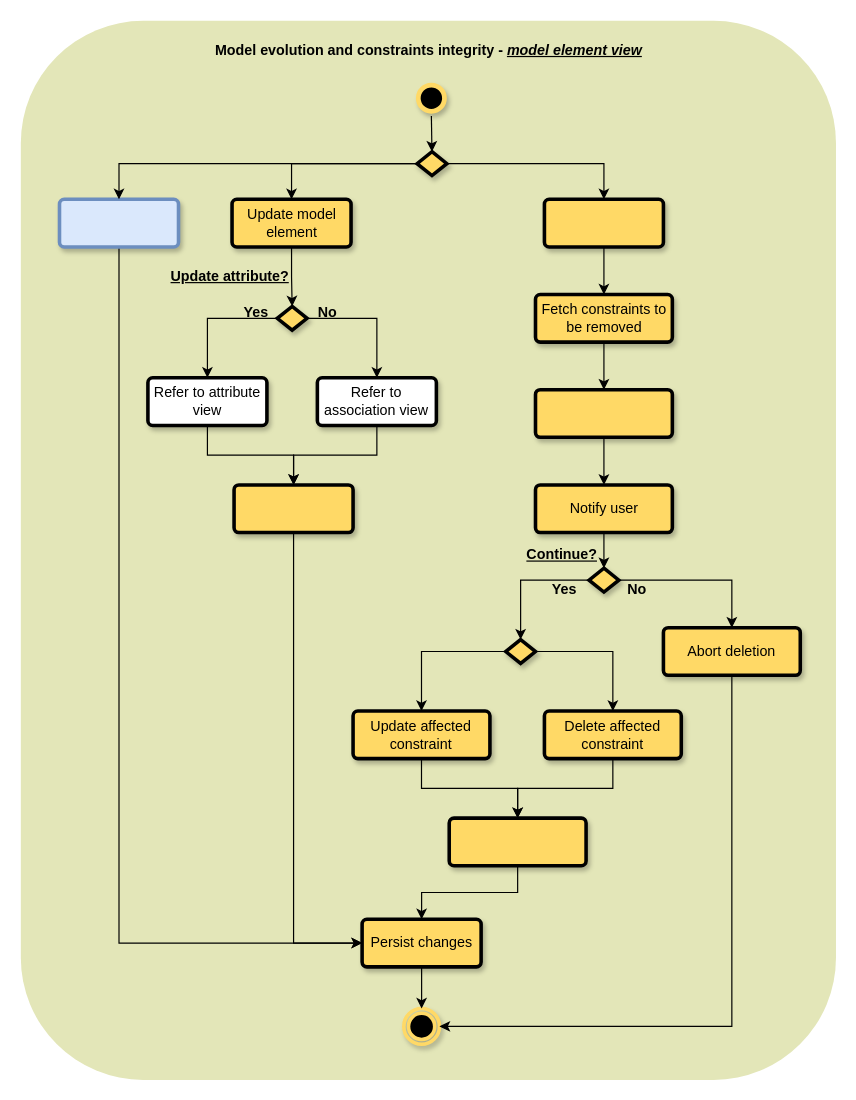
Image size: 856x1100. Some labels were removed from this diagram. Here are the shapes that lost their labels. From the top down, the centre of each, then its label:
the point at 119,224: Create model element
the point at 604,224: Delete model element
the point at 604,415: Fetch affected constraints
the point at 294,510: Synchronize constraints
the point at 518,843: Confirm deletion
